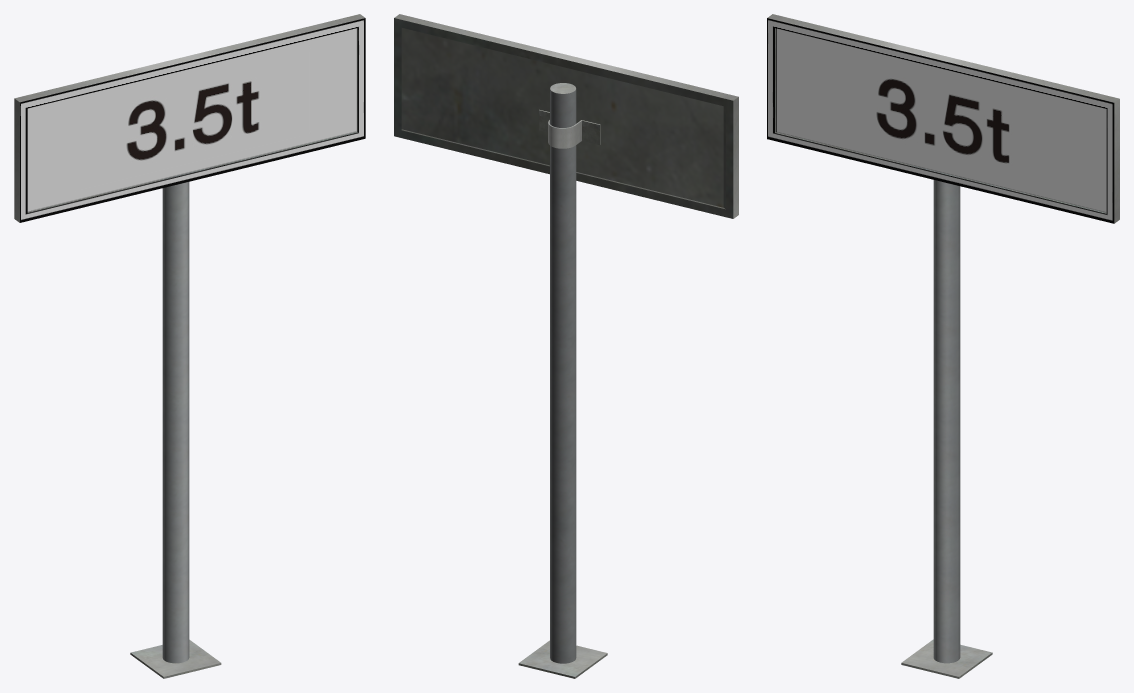
3 views of the same model, side by side, from view 1: azimuth 30°, elevation 25°; view 2: azimuth 150°, elevation 25°; view 3: azimuth 330°, elevation 25° (orthographic). The views are drawn at different scales.
Visible parts, largest first — view 1: MainBuilding; view 2: MainBuilding; view 3: MainBuilding.
Part boxes in pixels (left/top/right/bottom): MainBuilding: left=14, top=14, right=365, bottom=678; MainBuilding: left=394, top=14, right=738, bottom=678; MainBuilding: left=767, top=14, right=1119, bottom=678.
Bounding box in the file's own units: 0.9 × 1.51 × 0.15.
1 material, 1 textured.
